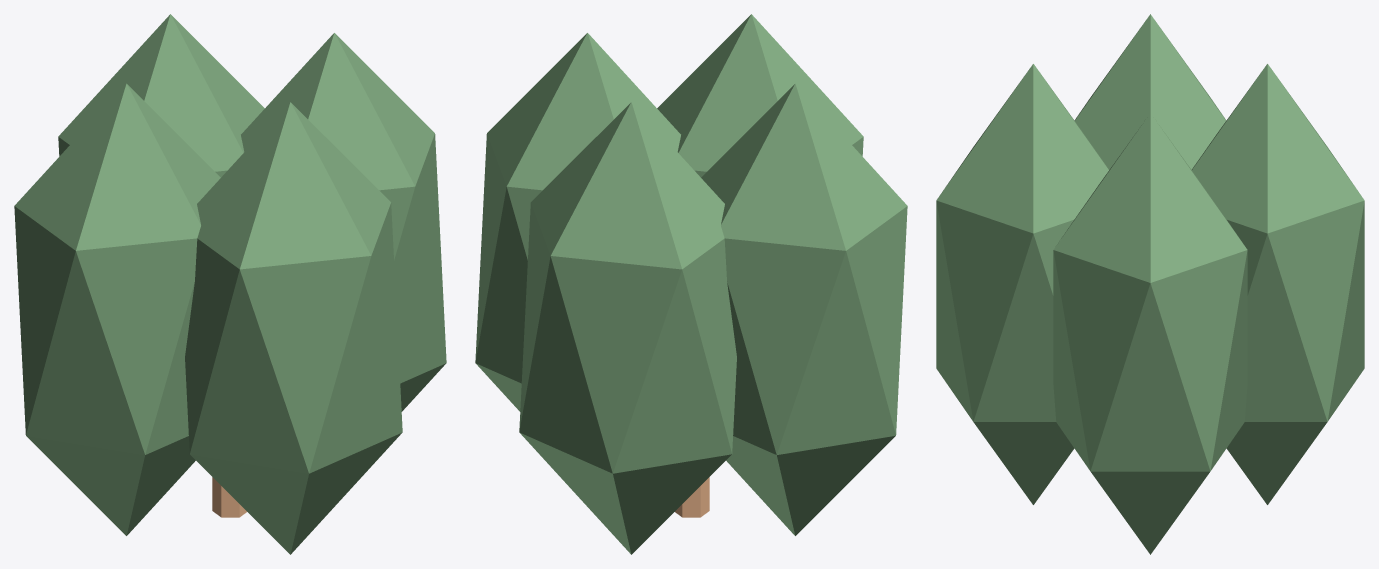
The picture shows the model from 3 angles, left to right: view 1: azimuth 30°, elevation 25°; view 2: azimuth 150°, elevation 25°; view 3: azimuth 270°, elevation 25°; orthographic projection. The views are drawn at different scales.
Visible parts, largest first — view 1: Leaf.003, Leaf.002, Leaf, Leaf.001, Stem; view 2: Leaf.001, Leaf.002, Leaf, Leaf.003, Stem; view 3: Leaf, Leaf.001, Leaf.003, Leaf.002.
Boxes of the visible parts, x1=… form: Leaf.003: x1=185, y1=102, x2=402, y2=554; Leaf.002: x1=14, y1=83, x2=220, y2=535; Leaf: x1=241, y1=33, x2=446, y2=411; Leaf.001: x1=58, y1=14, x2=264, y2=177; Stem: x1=212, y1=477, x2=246, y2=517; Leaf.001: x1=519, y1=102, x2=736, y2=554; Leaf.002: x1=701, y1=83, x2=907, y2=535; Leaf: x1=475, y1=33, x2=680, y2=411; Leaf.003: x1=657, y1=14, x2=863, y2=177; Stem: x1=675, y1=477, x2=709, y2=517; Leaf: x1=1053, y1=113, x2=1247, y2=554; Leaf.001: x1=1192, y1=64, x2=1364, y2=504; Leaf.003: x1=936, y1=64, x2=1108, y2=504; Leaf.002: x1=1074, y1=14, x2=1226, y2=169.
Bounding box in the file's own units: 47.26 × 50 × 43.9.
